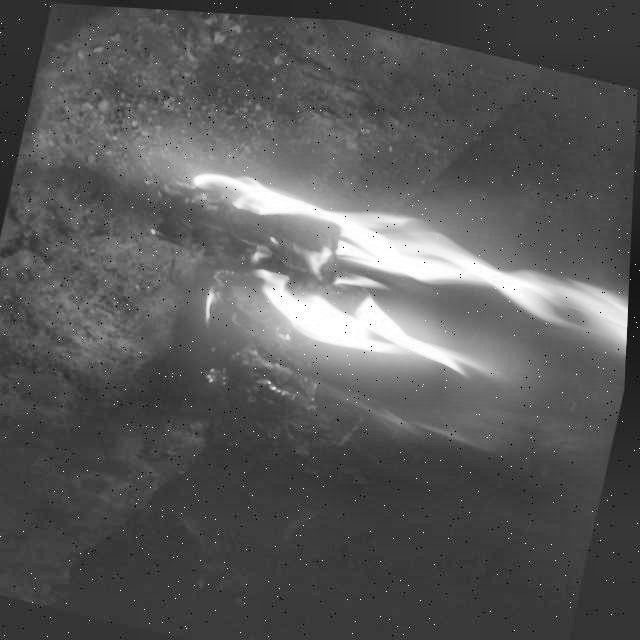Fire: (156, 158, 635, 409)
